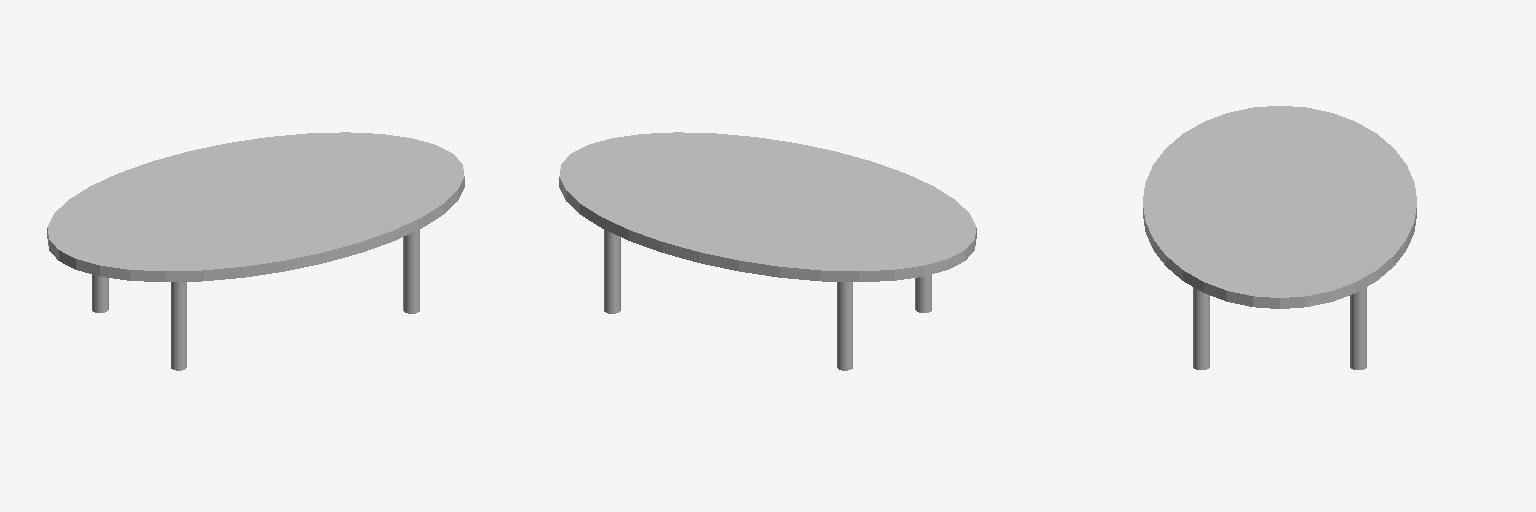
Rendered from table.obj.
The picture shows the model from 3 angles: view 1: azimuth 30°, elevation 25°; view 2: azimuth 150°, elevation 25°; view 3: azimuth 270°, elevation 25°; orthographic projection.
Visible parts, largest first — view 1: Cylinder.001; view 2: Cylinder.001; view 3: Cylinder.001.
Boxes of the visible parts, <box> form: Cylinder.001: <box>47,132,464,370</box>; Cylinder.001: <box>559,132,976,370</box>; Cylinder.001: <box>1143,106,1416,369</box>.
Bounding box in the file's own units: 10 × 2.62 × 6.03.